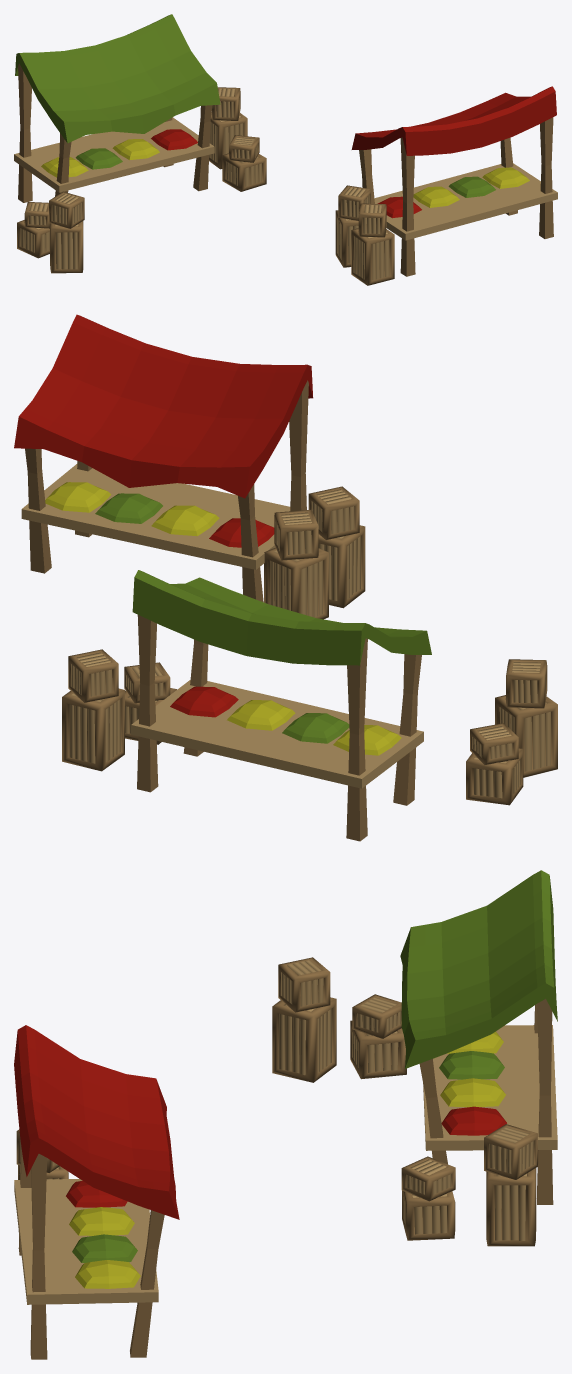
The model's file is Market_FirstAge_Level1.glb.
3 views of the same model, one above another, from view 1: azimuth 30°, elevation 25°; view 2: azimuth 150°, elevation 25°; view 3: azimuth 270°, elevation 25° (orthographic). The views are drawn at different scales.
Parts seen in each view (by area): view 1: Market_FirstAge_Level1; view 2: Market_FirstAge_Level1; view 3: Market_FirstAge_Level1.
Part boxes in pixels (left/top/right/bottom): Market_FirstAge_Level1: left=14, top=14, right=557, bottom=285; Market_FirstAge_Level1: left=14, top=314, right=557, bottom=841; Market_FirstAge_Level1: left=14, top=870, right=557, bottom=1359.
Size of the model in its own units: 1.62 by 0.5515 by 1.22.
